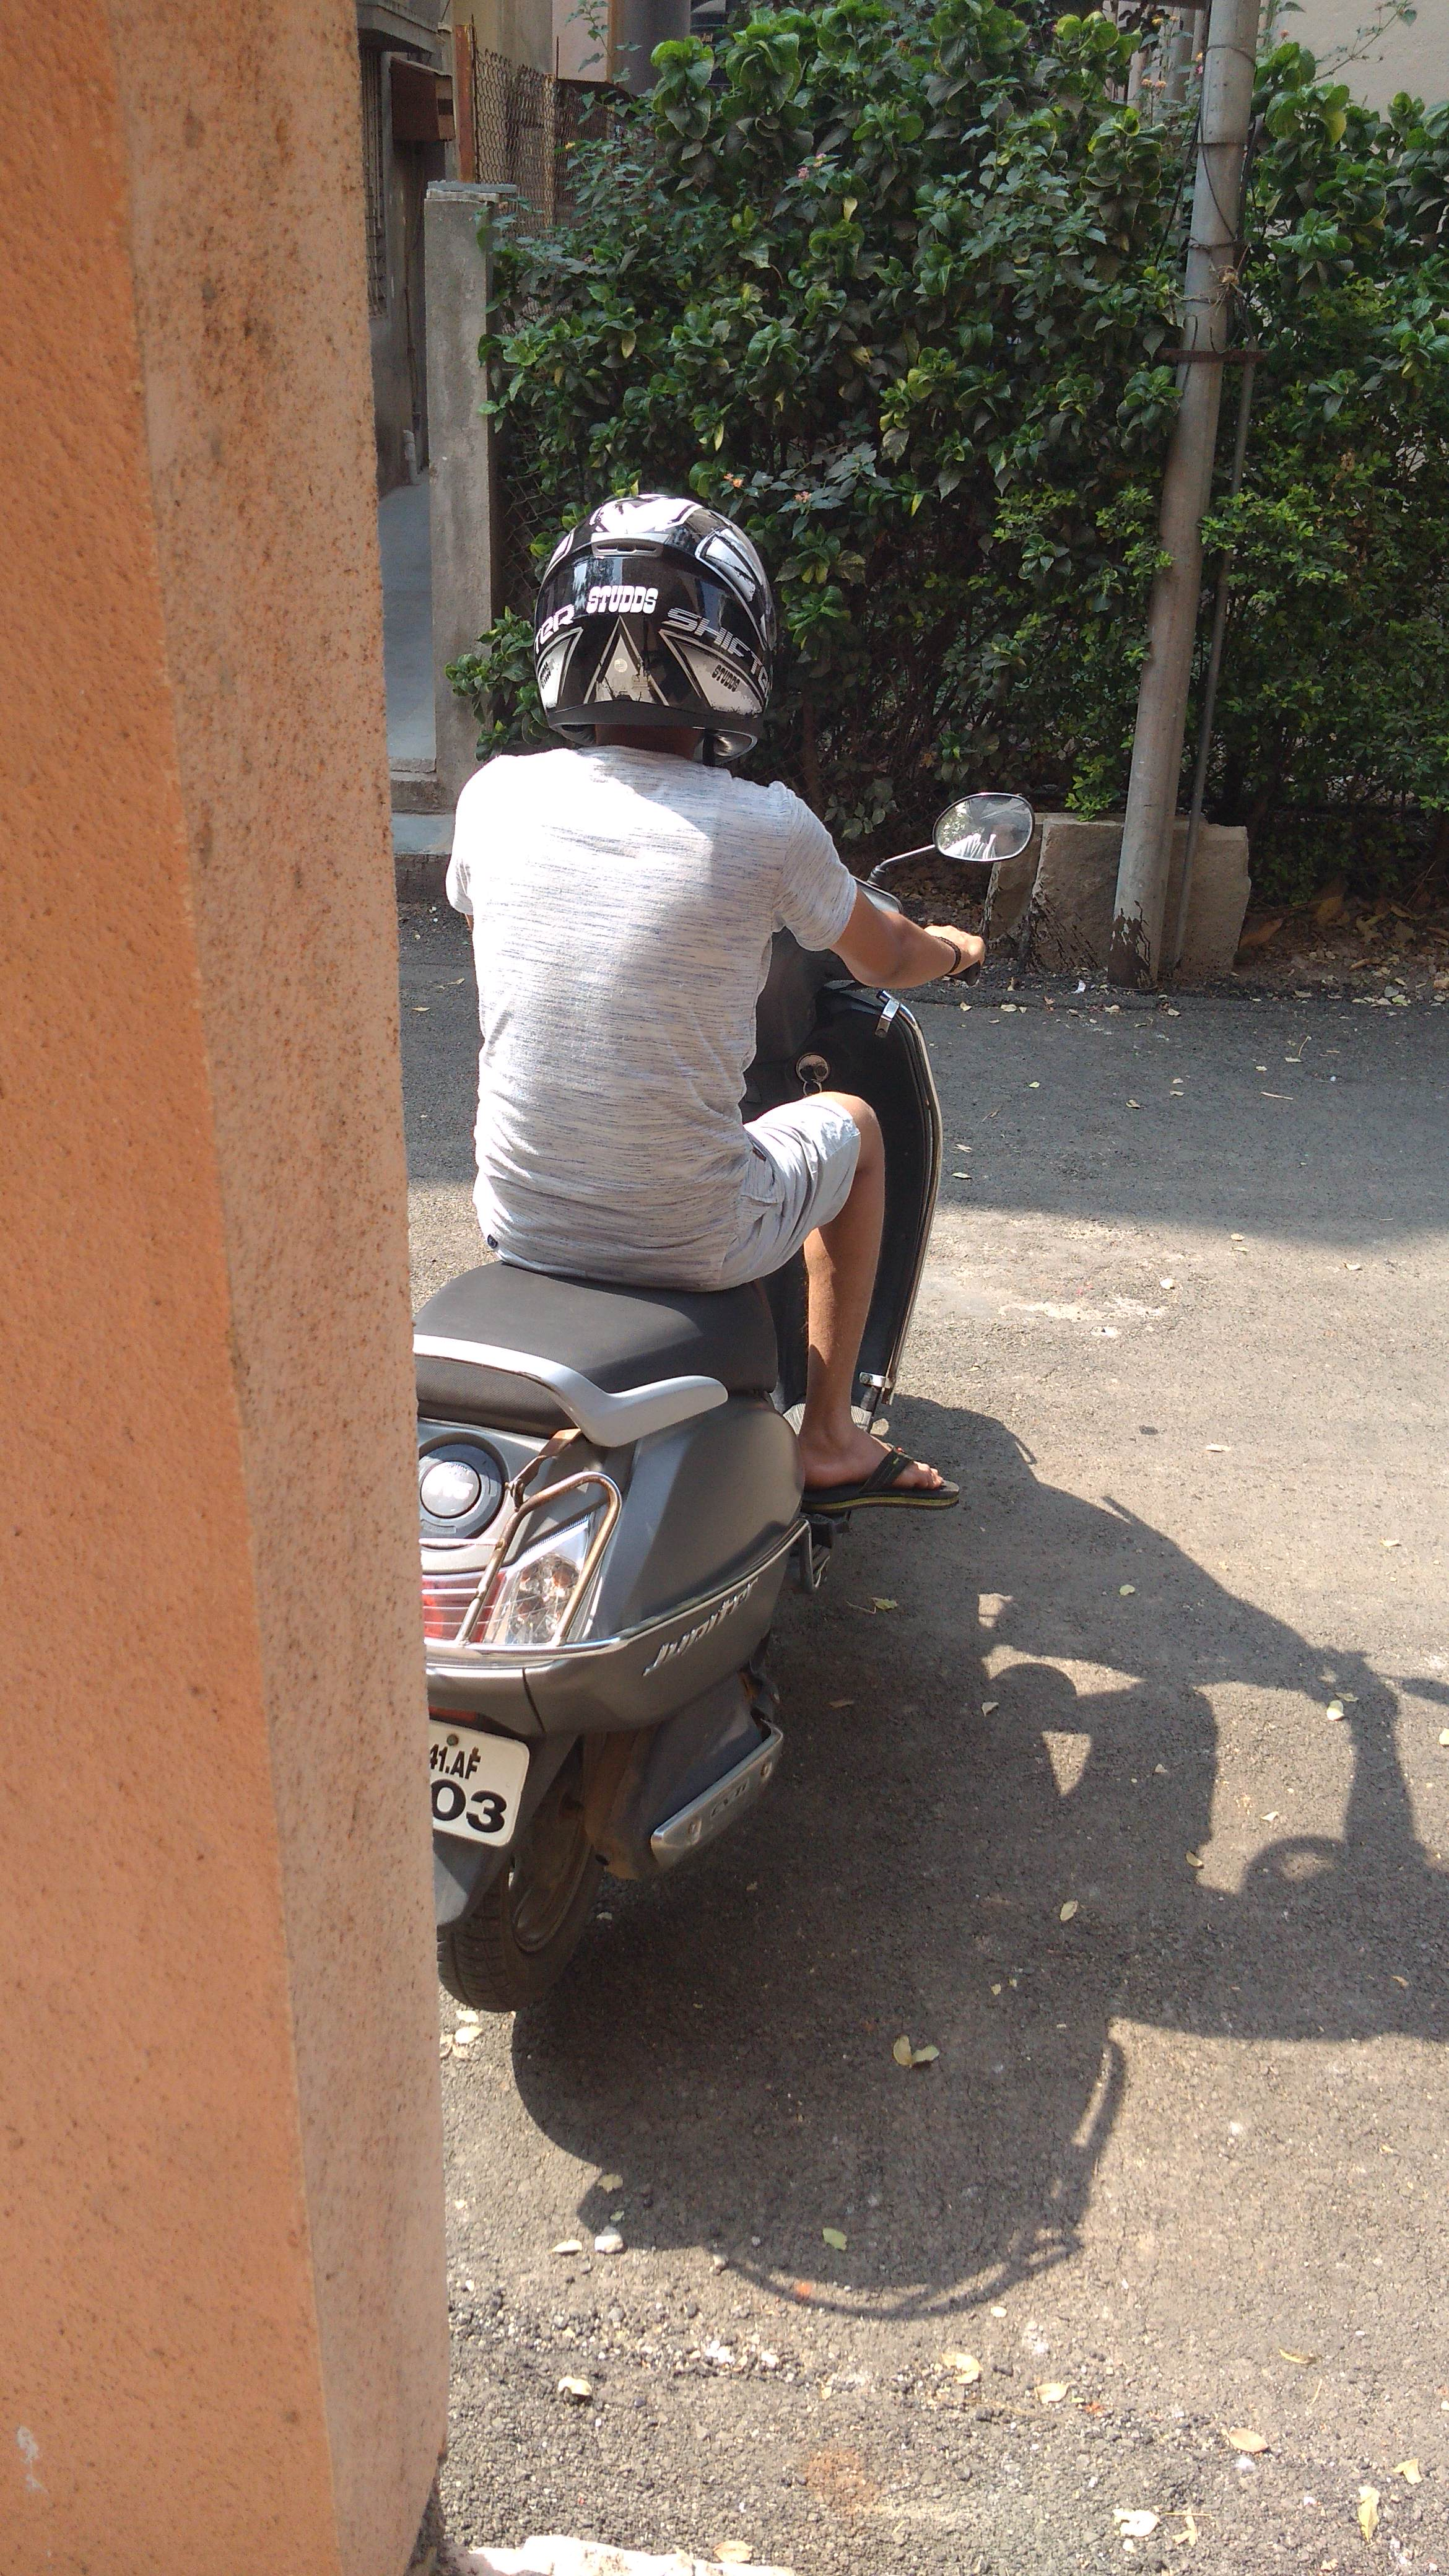helmet: (373, 474, 1014, 1399)
